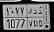0: (10, 10, 16, 30)
1: (5, 7, 10, 29)
7: (20, 6, 26, 29)
B: (38, 9, 44, 29), (33, 8, 38, 29)
V: (28, 7, 33, 28)
